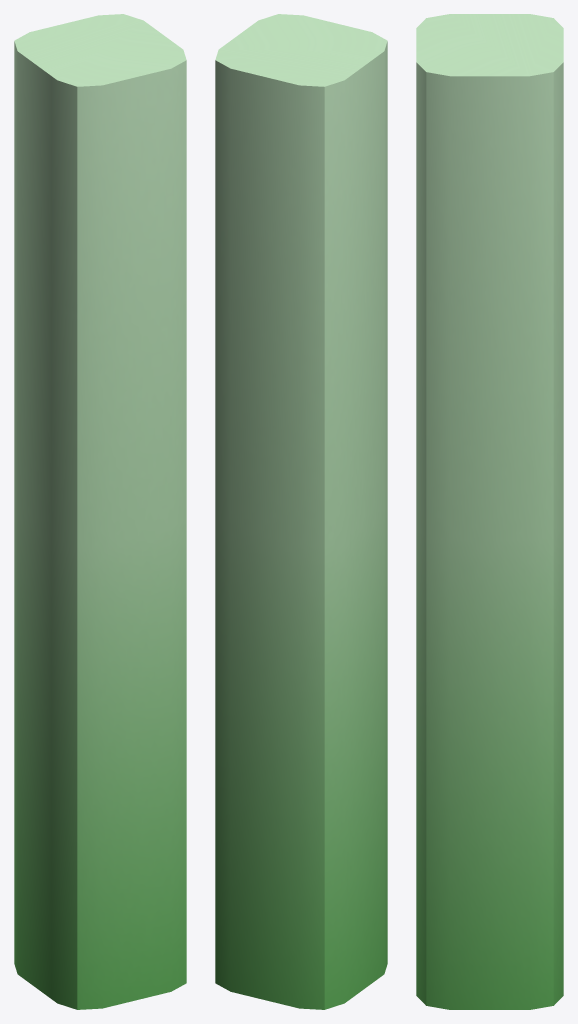
File: Mod_Pillar_03.fbx
3 renders of one model, left to right at view 1: azimuth 30°, elevation 25°; view 2: azimuth 150°, elevation 25°; view 3: azimuth 270°, elevation 25°, orthographic.
Parts seen in each view (by area): view 1: Mod_Pillar_03; view 2: Mod_Pillar_03; view 3: Mod_Pillar_03.
Boxes of the visible parts, left/top/right/bottom form: Mod_Pillar_03: left=14, top=14, right=186, bottom=1009; Mod_Pillar_03: left=215, top=14, right=387, bottom=1009; Mod_Pillar_03: left=416, top=14, right=563, bottom=1009.
Size of the model in its own units: 30 by 210 by 30.
